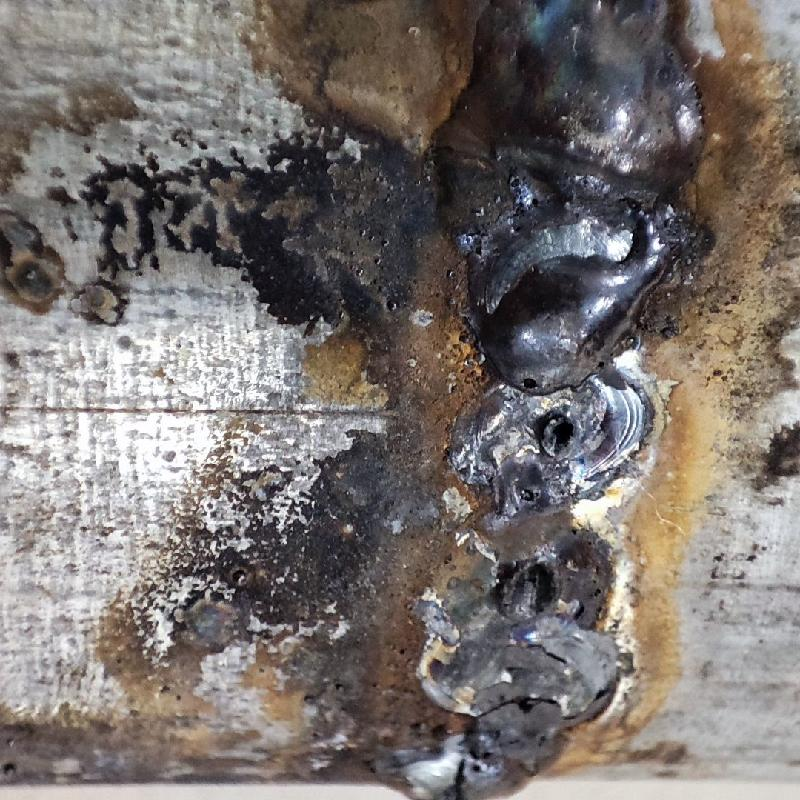Not_fully_soldered: (465, 382, 648, 795)
Surface_pores: (526, 405, 583, 458), (508, 361, 554, 404)
Weld: (442, 2, 695, 394)
